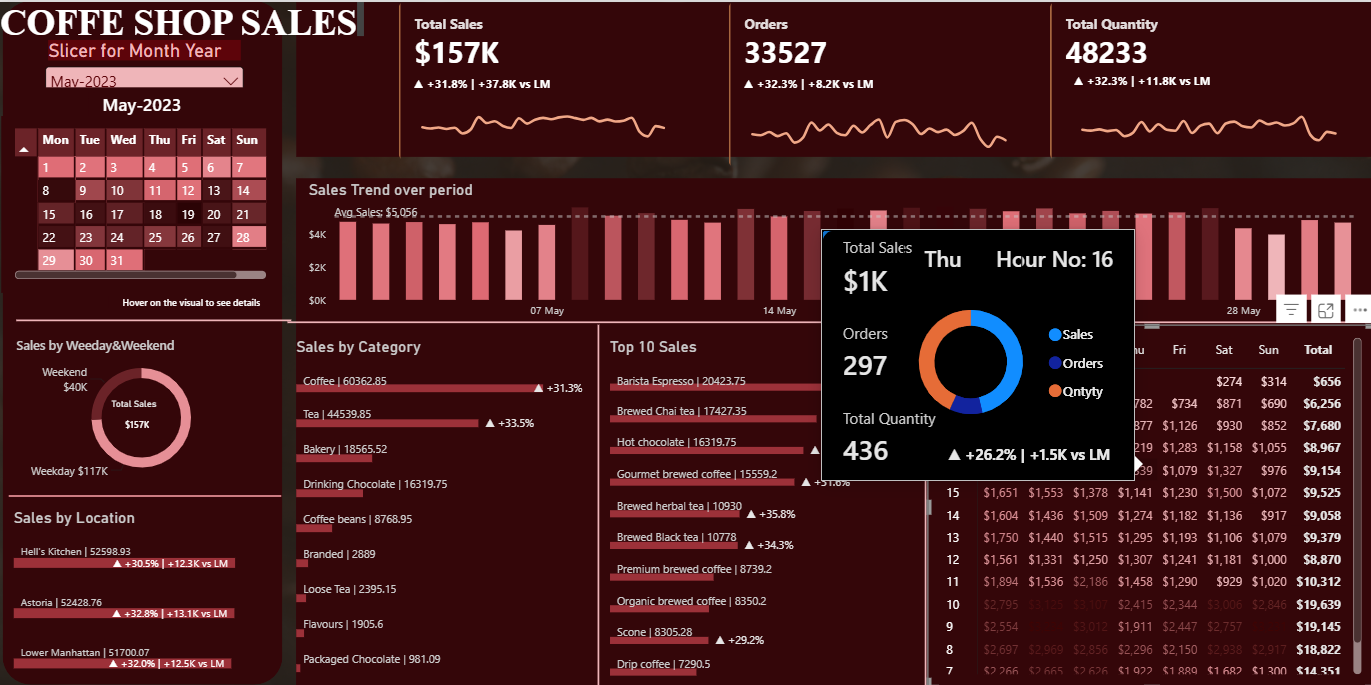

What the dashboard file says about the page in this screenshot:
{"tool":"powerbi","page":{"name":"Page 1","canvas":[1600,800],"ordinal":0},"visuals":[{"type":"shape","box":[344.8,1.9,1254.9,179.8],"z":0},{"type":"cardVisual","fields":{"Data":["Transactions.Tip"]},"box":[126.9,342.8,194.8,13.3],"z":0,"group":"g15"},{"type":"shape","box":[2.9,0,325.6,795.1],"z":1000},{"type":"group","id":"g1","title":"Group 5","box":[1.5,133.7,324.1,205.3],"z":1000,"group":"g15"},{"type":"textbox","box":[0,0,423,45.1],"z":2000},{"type":"cardVisual","fields":{"Data":["Transactions.Total Sales"]},"box":[464,0,376.8,187],"z":3000,"group":"g4"},{"type":"cardVisual","fields":{"Data":["Transactions.Orders"]},"box":[847.8,0,355.1,194.2],"z":3000,"group":"g7"},{"type":"cardVisual","fields":{"Data":["Date Table.Total Quantity"]},"box":[1220.3,0,378.3,187],"z":3000,"group":"g10"},{"type":"slicer","fields":{"Values":["Date Table.Month Year"]},"box":[48,45.1,239.8,55.2],"z":3000},{"type":"group","id":"g2","title":"Group 1","box":[464,0,376.8,187],"z":4000},{"type":"group","id":"g3","title":"Group 1","box":[847.8,0,355.1,194.2],"z":5000},{"type":"lineChart","fields":{"Category":["Date Table.Date.Variation.Date Hierarchy.Year","Date Table.Date.Variation.Date Hierarchy.Quarter","Date Table.Date.Variation.Date Hierarchy.Month","Date Table.Date.Variation.Date Hierarchy.Day"],"Y":["Date Table.Total Quantity"]},"box":[1231.9,67.7,346.4,113.8],"z":5000,"group":"g10"},{"type":"lineChart","fields":{"Category":["Date Table.Date.Variation.Date Hierarchy.Year","Date Table.Date.Variation.Date Hierarchy.Quarter","Date Table.Date.Variation.Date Hierarchy.Month","Date Table.Date.Variation.Date Hierarchy.Day"],"Y":["Transactions.Orders"]},"box":[849.5,72.2,346.4,114.1],"z":5000,"group":"g7"},{"type":"lineChart","fields":{"Category":["Date Table.Date.Variation.Date Hierarchy.Year","Date Table.Date.Variation.Date Hierarchy.Quarter","Date Table.Date.Variation.Date Hierarchy.Month","Date Table.Date.Variation.Date Hierarchy.Day"],"Y":["Transactions.Total Sales"]},"box":[465.4,72.5,332.8,114.3],"z":5000,"group":"g4"},{"type":"group","id":"g4","title":"Group 4","box":[464,0,376.8,187],"z":5002,"group":"g6"},{"type":"group","id":"g5","title":"Group 2","box":[464,0,376.8,187],"z":5002,"group":"g2"},{"type":"group","id":"g6","title":"Group 3","box":[464,0,376.8,187],"z":5002,"group":"g5"},{"type":"group","id":"g7","title":"Group 4","box":[847.8,0,355.1,194.2],"z":5002,"group":"g9"},{"type":"group","id":"g8","title":"Group 2","box":[847.8,0,355.1,194.2],"z":5002,"group":"g3"},{"type":"group","id":"g9","title":"Group 3","box":[847.8,0,355.1,194.2],"z":5002,"group":"g8"},{"type":"group","id":"g10","title":"Group 4","box":[1220.3,0,378.3,187],"z":5002,"group":"g11"},{"type":"group","id":"g11","title":"Group 3","box":[1220.3,0,378.3,187],"z":5002,"group":"g12"},{"type":"group","id":"g12","title":"Group 2","box":[1220.3,0,378.3,187],"z":5002,"group":"g13"},{"type":"group","id":"g13","title":"Group 1","box":[1220.3,0,378.3,187],"z":6000},{"type":"shape","box":[344.8,205.7,1254.9,591.3],"z":7000},{"type":"cardVisual","fields":{"Data":["Min(Date Table.Month Year)"]},"box":[103.2,106.1,130.8,27.6],"z":8000},{"type":"pivotTable","fields":{"Columns":["Date Table.Day Name"],"Rows":["Date Table.Week Nbr"],"Values":["Min(Date Table.Day)"]},"box":[1.5,133.7,324.1,205.3],"z":8000,"group":"g1"},{"type":"group","id":"g14","title":"Group 6","box":[1.5,133.7,324.1,222.4],"z":9000},{"type":"shape","box":[687.7,376.3,16.7,424.5],"z":10000},{"type":"shape","box":[10.2,566.9,316.9,17.4],"z":11000},{"type":"group","id":"g15","title":"Group 7","box":[1.5,133.7,324.1,222.4],"z":11003,"group":"g14"},{"type":"donutChart","title":"Sales by Weeday&Weekend","fields":{"Category":["Date Table.Wekend"],"Y":["Transactions.Total Sales"]},"box":[2.9,375,322.7,200.6],"z":12000},{"type":"cardVisual","title":"Total Sales","fields":{"Data":["Transactions.Total Sales"]},"box":[129.4,462.2,66.9,48],"z":13000},{"type":"clusteredBarChart","title":"Sales by Location","fields":{"Category":["Transactions.store_location"],"Y":["Date Table.Place holder","Transactions.Total Sales"]},"box":[0,575.6,325.6,220.9],"z":14000},{"type":"columnChart","title":"Sales Trend over period","fields":{"Category":["Transactions.transaction_date"],"Y":["Transactions.Total Sales"]},"box":[343.5,194.2,1255.8,193.3],"z":15000},{"type":"group","id":"g16","title":"Group 8","box":[328.1,376.3,364.8,420.6],"z":16000},{"type":"shape","box":[18.7,366.1,319.8,10.2],"z":17000},{"type":"clusteredBarChart","title":"Sales by Category","fields":{"Category":["Transactions.product_category"],"Y":["Date Table.Place holder","Transactions.Total Sales"]},"box":[328.1,376.3,364.8,420.6],"z":17000,"group":"g16"},{"type":"clusteredBarChart","title":"Top 10 Sales","fields":{"Category":["Transactions.product_type"],"Y":["Date Table.Place holder","Transactions.Total Sales"]},"box":[693.2,376.3,376.5,424.5],"z":17000,"group":"g17"},{"type":"group","id":"g17","title":"Group 8","box":[693.2,376.3,376.3,424.5],"z":18000},{"type":"shape","box":[333.6,363.3,1266,20.4],"z":19000},{"type":"shape","box":[1069.5,376.3,13,424.5],"z":20000},{"type":"pivotTable","fields":{"Columns":["Date Table.Day Name"],"Rows":["Transactions.Hour"],"Values":["Transactions.Total Sales"]},"box":[1078.3,376.7,521.7,423.3],"z":21000}]}

Visuals, with their boxes in screenshot pixels (x1, y1, x2, y2), scaled from the page's 1600x800 canvas onto the 1371x685 screenshot:
shape: <bbox>295, 2, 1370, 156</bbox>
cardVisual - Transactions.Tip: <bbox>109, 294, 276, 305</bbox>
shape: <bbox>2, 0, 281, 681</bbox>
"Group 5" group: <bbox>1, 114, 279, 290</bbox>
textbox: <bbox>0, 0, 362, 39</bbox>
cardVisual - Transactions.Total Sales: <bbox>398, 0, 720, 160</bbox>
cardVisual - Transactions.Orders: <bbox>726, 0, 1031, 166</bbox>
cardVisual - Date Table.Total Quantity: <bbox>1046, 0, 1370, 160</bbox>
slicer - Date Table.Month Year: <bbox>41, 39, 247, 86</bbox>
"Group 1" group: <bbox>398, 0, 720, 160</bbox>
"Group 1" group: <bbox>726, 0, 1031, 166</bbox>
lineChart - Date Table.Date.Variation.Date Hierarchy.Year x Date Table.Date.Variation.Date Hierarchy.Quarter: <bbox>1056, 58, 1352, 155</bbox>
lineChart - Date Table.Date.Variation.Date Hierarchy.Year x Date Table.Date.Variation.Date Hierarchy.Quarter: <bbox>728, 62, 1025, 160</bbox>
lineChart - Date Table.Date.Variation.Date Hierarchy.Year x Date Table.Date.Variation.Date Hierarchy.Quarter: <bbox>399, 62, 684, 160</bbox>
"Group 4" group: <bbox>398, 0, 720, 160</bbox>
"Group 2" group: <bbox>398, 0, 720, 160</bbox>
"Group 3" group: <bbox>398, 0, 720, 160</bbox>
"Group 4" group: <bbox>726, 0, 1031, 166</bbox>
"Group 2" group: <bbox>726, 0, 1031, 166</bbox>
"Group 3" group: <bbox>726, 0, 1031, 166</bbox>
"Group 4" group: <bbox>1046, 0, 1370, 160</bbox>
"Group 3" group: <bbox>1046, 0, 1370, 160</bbox>
"Group 2" group: <bbox>1046, 0, 1370, 160</bbox>
"Group 1" group: <bbox>1046, 0, 1370, 160</bbox>
shape: <bbox>295, 176, 1370, 682</bbox>
cardVisual - Min(Date Table.Month Year): <bbox>88, 91, 201, 114</bbox>
pivotTable - Date Table.Day Name x Date Table.Week Nbr: <bbox>1, 114, 279, 290</bbox>
"Group 6" group: <bbox>1, 114, 279, 305</bbox>
shape: <bbox>589, 322, 604, 684</bbox>
shape: <bbox>9, 485, 280, 500</bbox>
"Group 7" group: <bbox>1, 114, 279, 305</bbox>
"Sales by Weeday&Weekend" donutChart: <bbox>2, 321, 279, 493</bbox>
"Total Sales" cardVisual: <bbox>111, 396, 168, 437</bbox>
"Sales by Location" clusteredBarChart: <bbox>0, 493, 279, 682</bbox>
"Sales Trend over period" columnChart: <bbox>294, 166, 1370, 332</bbox>
"Group 8" group: <bbox>281, 322, 594, 682</bbox>
shape: <bbox>16, 313, 290, 322</bbox>
"Sales by Category" clusteredBarChart: <bbox>281, 322, 594, 682</bbox>
"Top 10 Sales" clusteredBarChart: <bbox>594, 322, 917, 684</bbox>
"Group 8" group: <bbox>594, 322, 916, 684</bbox>
shape: <bbox>286, 311, 1370, 329</bbox>
shape: <bbox>916, 322, 928, 684</bbox>
pivotTable - Date Table.Day Name x Transactions.Hour: <bbox>924, 323, 1370, 684</bbox>
